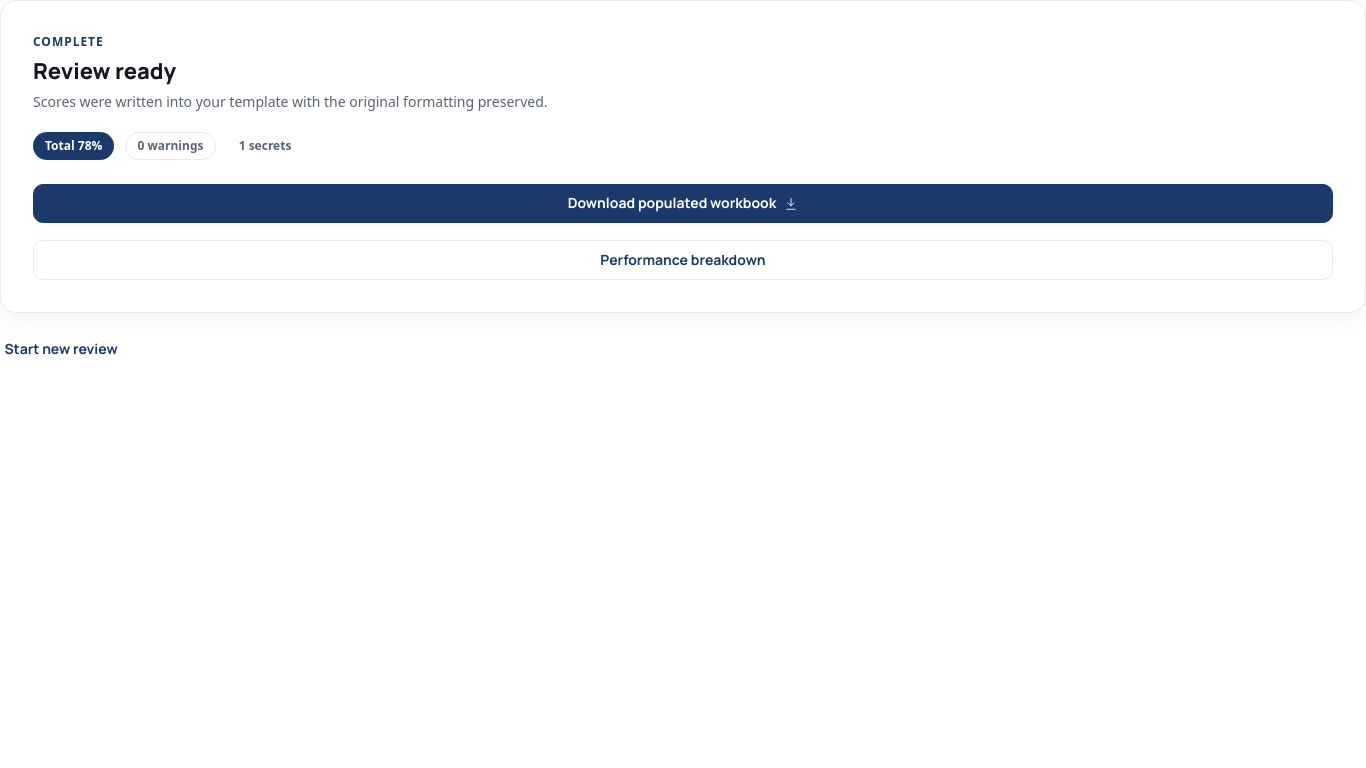
Test: clicking the secrets tag opens a dialog listing every secret as file:line (pattern)
Click the button "1 secrets".
click(265, 146)  # box left=227, top=132, right=303, bottom=160
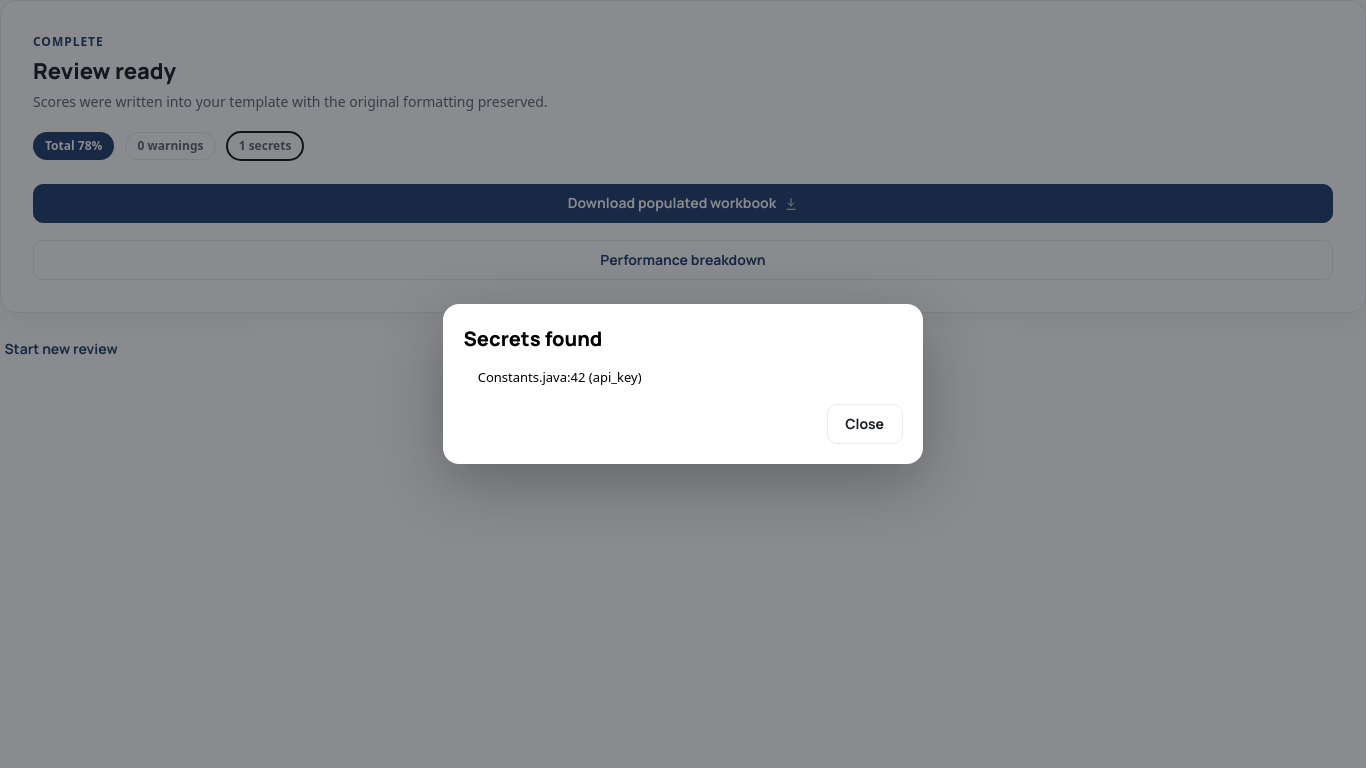
Check: the list item "Constants.java:42 (api_key)" is shown, box left=478, top=368, right=642, bottom=386
